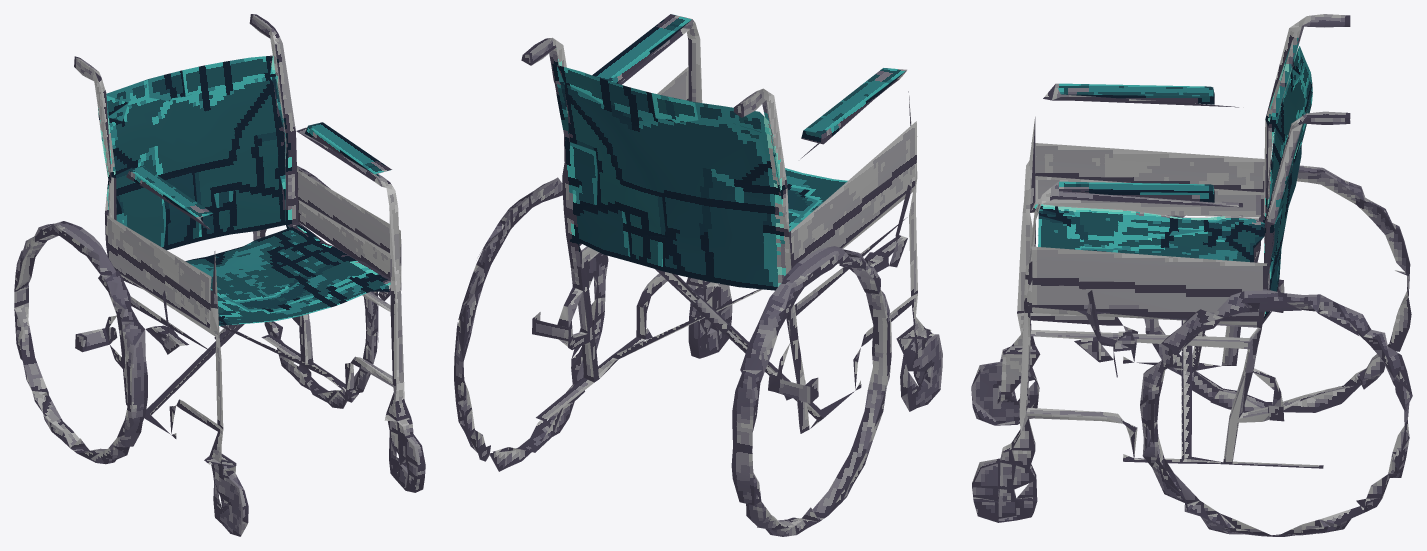
File: wheelchair_01.glb
3 renders of one model, left to right at view 1: azimuth 30°, elevation 25°; view 2: azimuth 150°, elevation 25°; view 3: azimuth 270°, elevation 25°, orthographic. The views are drawn at different scales.
Parts seen in each view (by area): view 1: mesh; view 2: mesh; view 3: mesh.
Part boxes in pixels (x1,y1,x2,y2): mesh: [14, 14, 425, 536]; mesh: [454, 14, 942, 536]; mesh: [971, 14, 1412, 536].
Size of the model in its own units: 0.799 by 1.1 by 1.08.
Materials: 1 (1 with a texture image).
